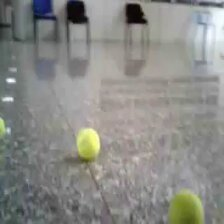tennis: (166, 188, 205, 224), (77, 127, 100, 158)
